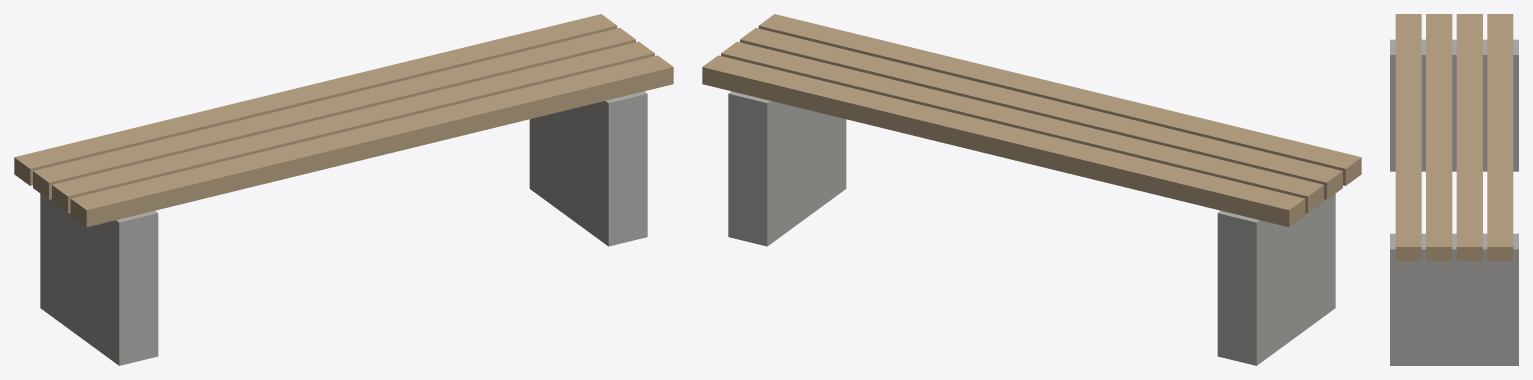
The model's file is bench_flat.glb.
3 renders of one model, left to right at view 1: azimuth 30°, elevation 25°; view 2: azimuth 150°, elevation 25°; view 3: azimuth 270°, elevation 25°, orthographic. The views are drawn at different scales.
Size of the model in its own units: 1.8 by 0.47 by 0.42.
